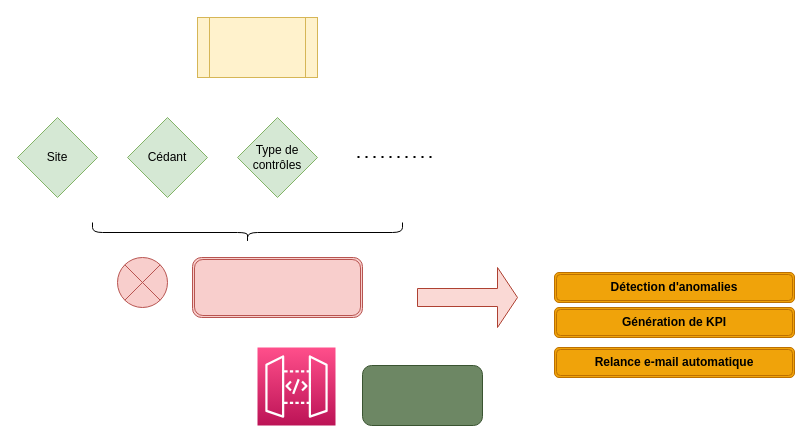
The diagram is 812 pixels wide and 443 high, and some of its shapes have lost their labels. The box of each missing label's shape, as (x1, y1, x2, y2) in pixels:
fichiers de contrôles internes: (196, 16, 318, 78)
Normalisation et agrégation des fichiers de contrôle interne: (192, 256, 362, 318)
Via une application Streamlit: (362, 364, 482, 426)
